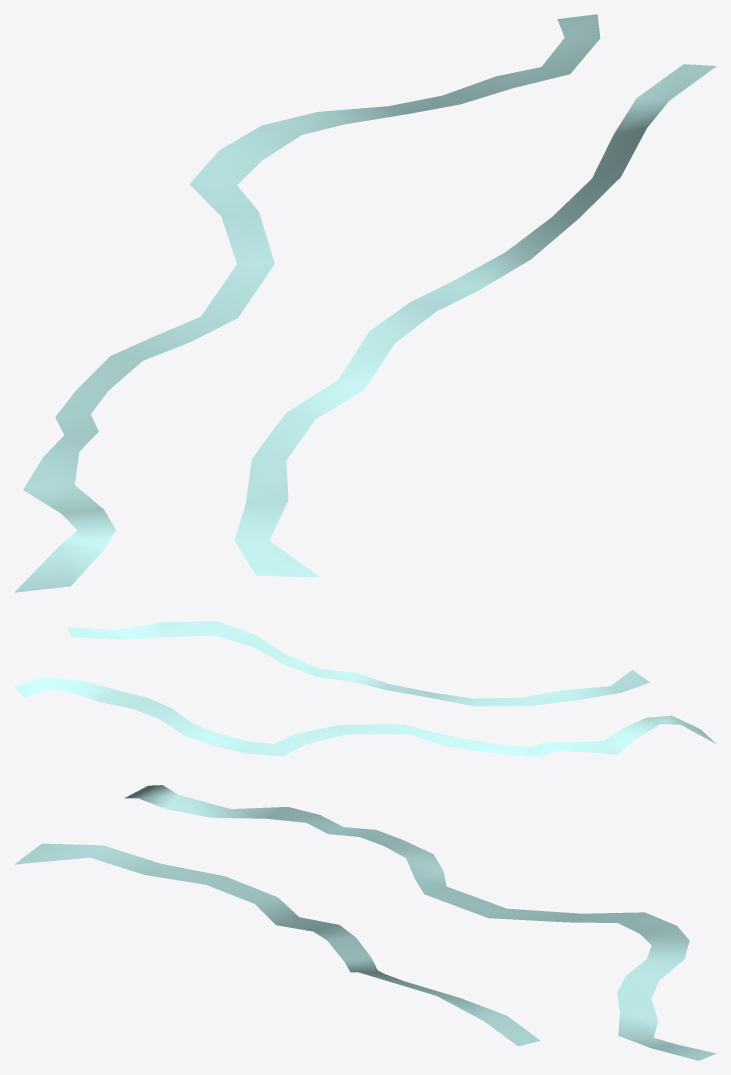
File: watershore01.fbx
3 views of the same model, one above another, from view 1: azimuth 30°, elevation 25°; view 2: azimuth 150°, elevation 25°; view 3: azimuth 270°, elevation 25° (orthographic). The views are drawn at different scales.
Parts seen in each view (by area): view 1: river_shoreline_mat; view 2: river_shoreline_mat; view 3: river_shoreline_mat.
Part boxes in pixels (<box>): river_shoreline_mat: <box>14,14,716,592</box>; river_shoreline_mat: <box>14,621,715,756</box>; river_shoreline_mat: <box>14,785,716,1060</box>.
Size of the model in its own units: 43.76 by 6.52 by 34.16.
